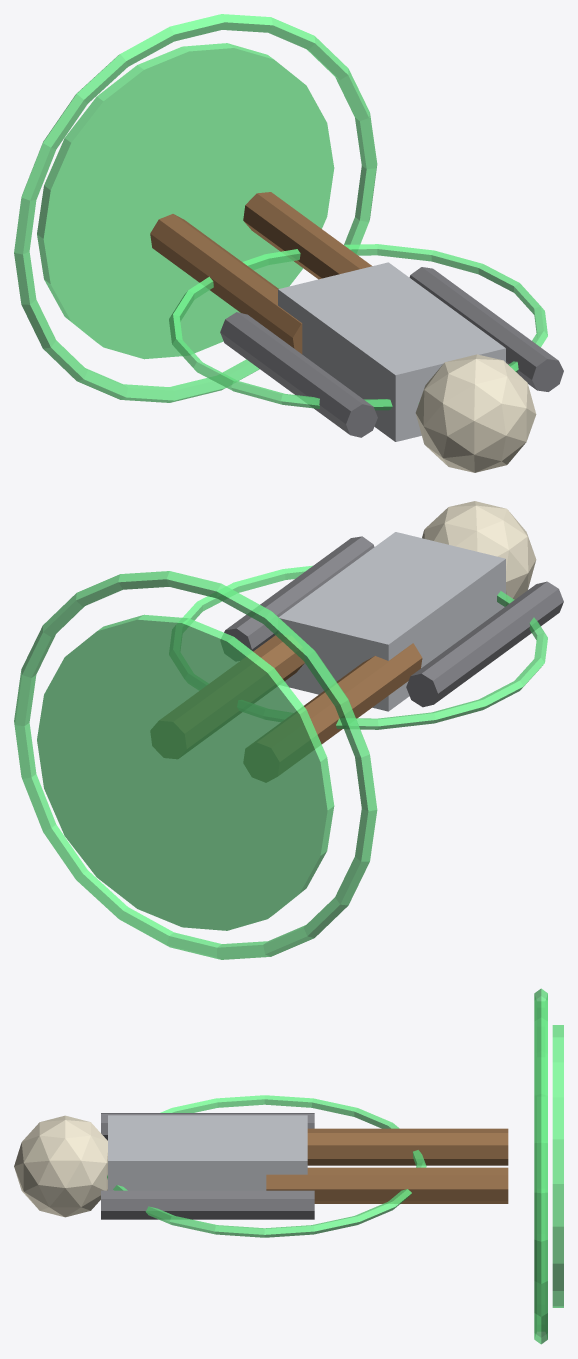
Rendered from biped_light_attack_pose.glb.
3 renders of one model, top to bottom at view 1: azimuth 30°, elevation 25°; view 2: azimuth 150°, elevation 25°; view 3: azimuth 270°, elevation 25°, orthographic. The views are drawn at different scales.
Visible parts, largest first — view 1: marker_disc, torso, marker_ring, head, left_leg, motion_arc, left_arm, right_leg, right_arm; view 2: marker_disc, torso, marker_ring, left_leg, right_leg, left_arm, head, right_arm, motion_arc; view 3: torso, right_leg, left_leg, head, right_arm, motion_arc, marker_ring, marker_disc, left_arm.
Part boxes in pixels (x1,y1,x2,y2): marker_disc: [37, 43, 334, 359]; torso: [278, 262, 505, 441]; marker_ring: [14, 14, 377, 402]; head: [415, 354, 536, 472]; left_leg: [150, 214, 302, 353]; motion_arc: [169, 244, 547, 410]; left_arm: [220, 312, 377, 437]; right_leg: [243, 192, 372, 279]; right_arm: [409, 267, 563, 391]; marker_disc: [37, 614, 334, 930]; torso: [278, 532, 505, 711]; marker_ring: [14, 571, 377, 959]; left_leg: [244, 643, 422, 781]; right_leg: [151, 634, 304, 758]; left_arm: [406, 581, 563, 707]; head: [422, 501, 536, 605]; right_arm: [221, 536, 374, 660]; motion_arc: [179, 565, 547, 729]; torso: [108, 1115, 307, 1190]; right_leg: [266, 1167, 508, 1203]; left_leg: [307, 1128, 508, 1165]; head: [14, 1115, 107, 1217]; right_arm: [101, 1190, 314, 1219]; motion_arc: [107, 1095, 426, 1237]; marker_ring: [534, 988, 547, 1344]; marker_disc: [552, 1025, 563, 1307]; left_arm: [101, 1113, 314, 1140].
Bounding box in the file's own units: 1.25 × 1.24 × 1.93.
